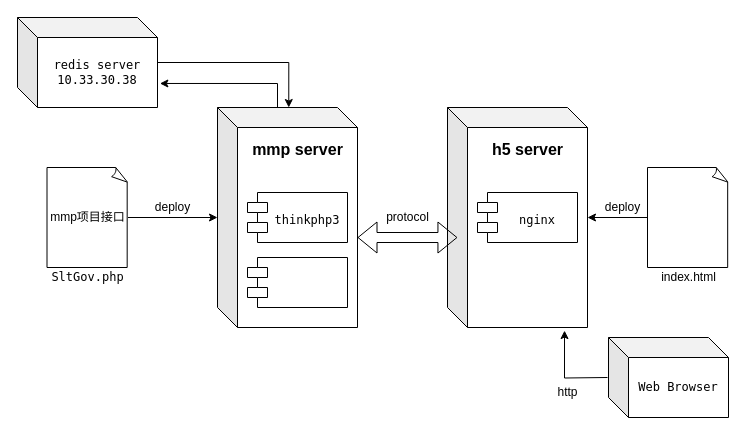
Image size: 746x435. Some labels were removed from this diagram. The shapes that lost their labels are listed below. From the top down, each one's centre as x and y in pixels, then its label:
At (x=687, y=217): "活动页面".
At (x=297, y=282): "php5.6".
